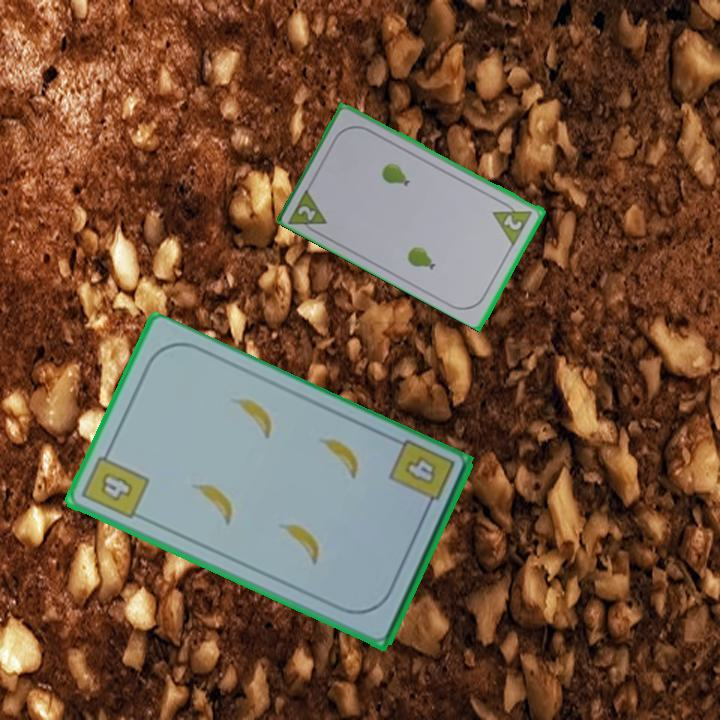2p: (285, 183, 330, 239), (489, 196, 536, 247)
4b: (78, 444, 153, 523), (385, 436, 458, 516)
